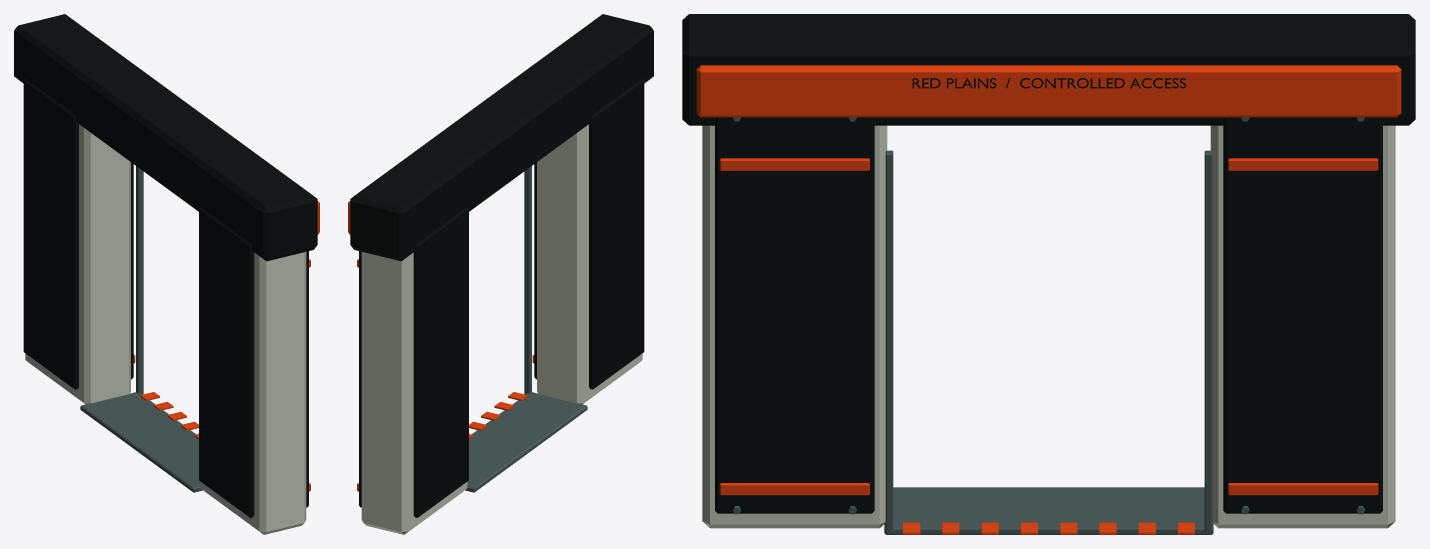
The model's file is SM_MP_Access_Frame.fbx.
The picture shows the model from 3 angles, left to right: view 1: azimuth 30°, elevation 25°; view 2: azimuth 150°, elevation 25°; view 3: azimuth 270°, elevation 25°; orthographic projection. The views are drawn at different scales.
Parts seen in each view (by area): view 1: SM_MP_Access_Frame; view 2: SM_MP_Access_Frame; view 3: SM_MP_Access_Frame.
Boxes of the visible parts, x1,y1,x2,y2 form: SM_MP_Access_Frame: (14,14,319,534); SM_MP_Access_Frame: (348,14,653,534); SM_MP_Access_Frame: (682,14,1415,534).
Size of the model in its own units: 99 by 635 by 462.
Materials: 1 (1 with a texture image).
